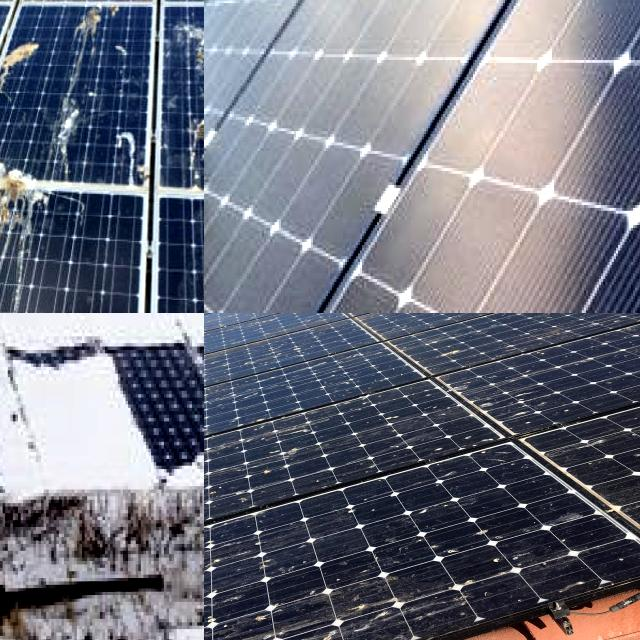bird: (0, 166, 63, 239), (0, 15, 58, 75), (78, 5, 138, 58), (0, 191, 25, 302), (171, 9, 204, 69), (184, 105, 204, 169), (0, 147, 20, 208), (41, 0, 66, 36), (0, 3, 16, 47), (71, 0, 102, 15), (0, 0, 20, 19), (0, 57, 9, 94), (0, 0, 12, 23)
crack: (204, 0, 640, 313)
dust: (273, 431, 423, 561), (588, 376, 640, 534), (204, 447, 264, 571), (204, 598, 328, 640), (354, 594, 458, 634), (204, 332, 238, 434)
panel: (0, 336, 158, 452), (114, 313, 204, 396), (0, 313, 93, 390), (0, 410, 35, 523), (152, 411, 204, 482), (0, 360, 64, 414), (0, 313, 37, 402), (0, 313, 59, 337), (0, 313, 32, 352)
